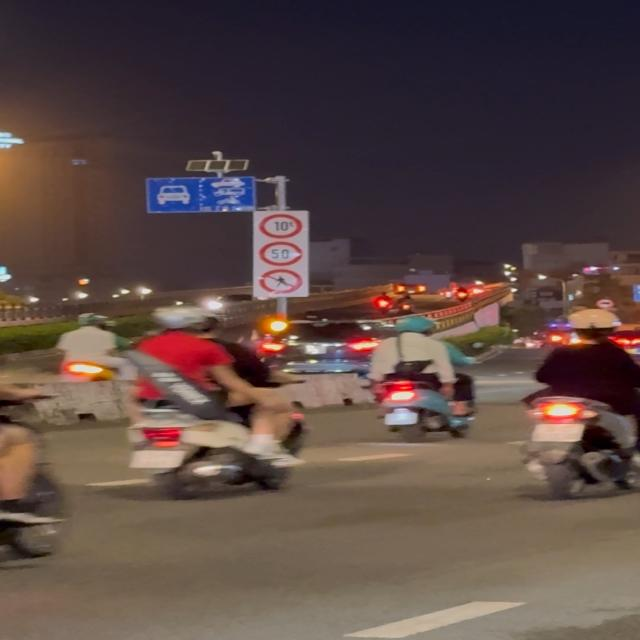Bien bao cam nguoi di bo: (259, 268, 304, 296)
Bien bao toc do toi da cho phep: (259, 241, 304, 268)
